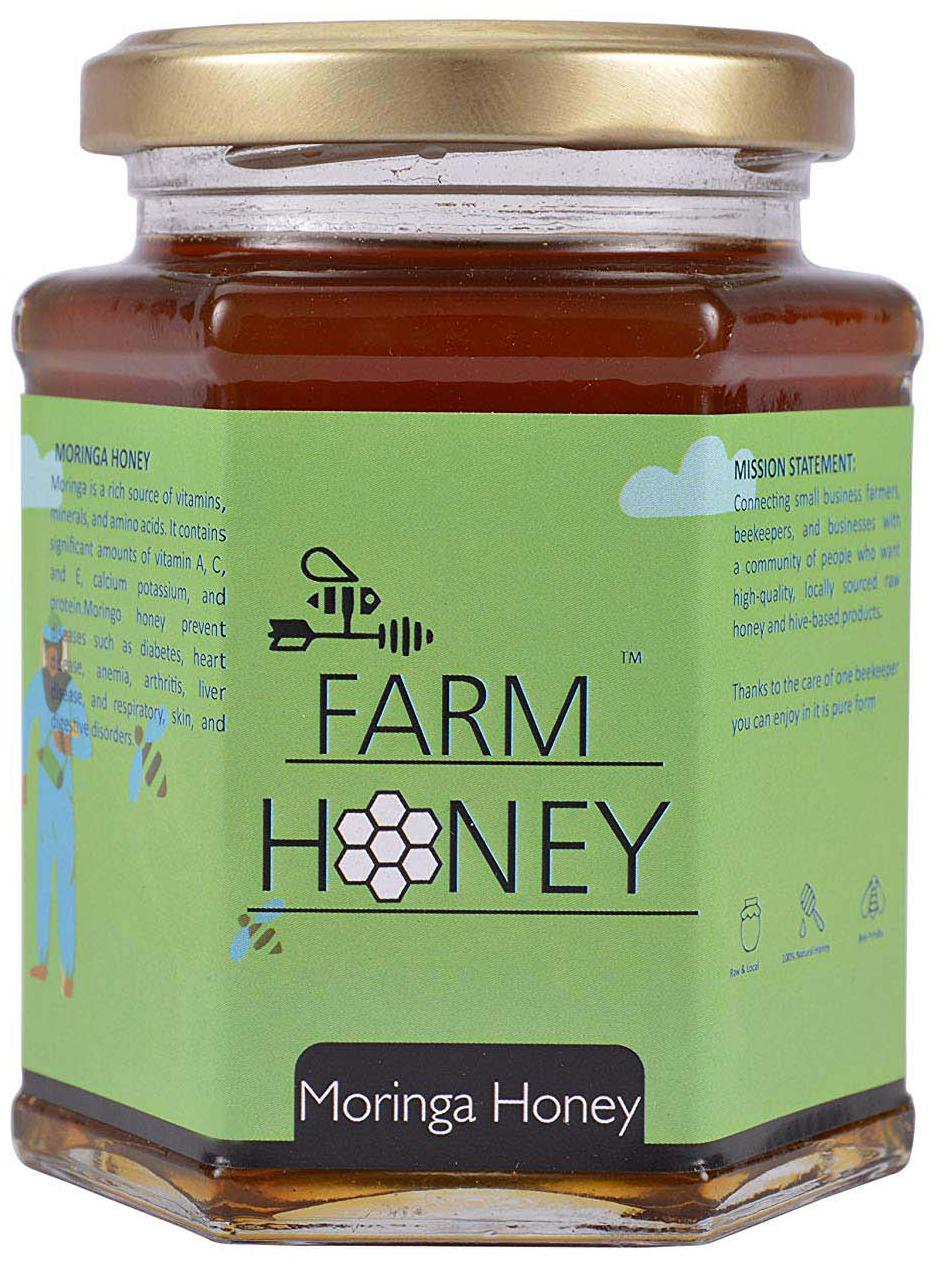JAR: (9, 10, 934, 1255)
